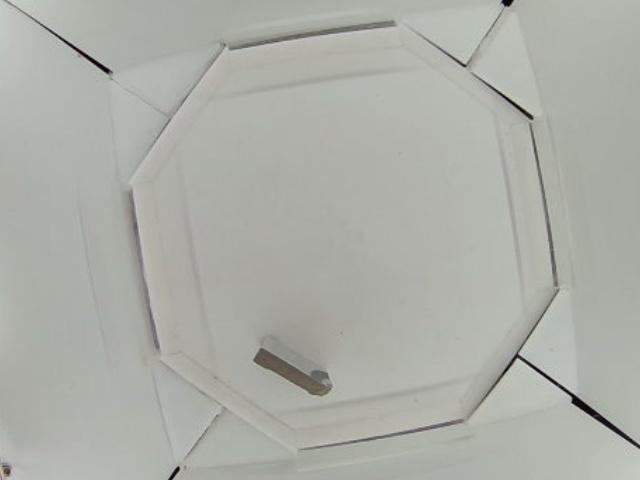China: (254, 337, 333, 395)
